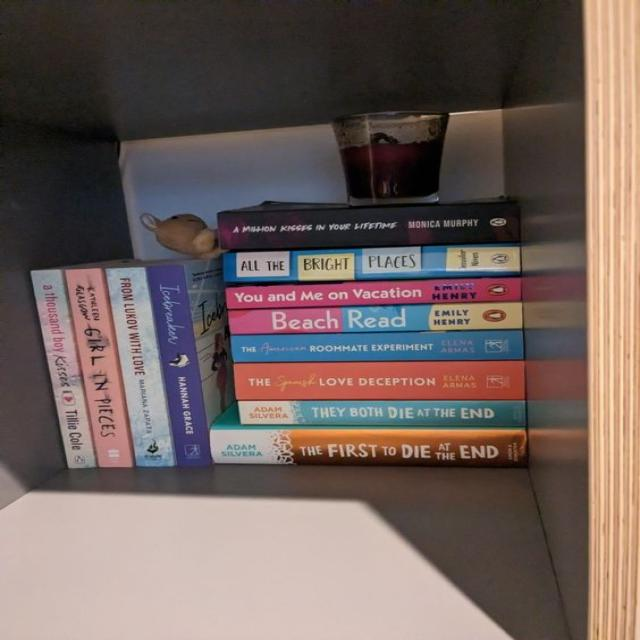book: (217, 203, 521, 249), (64, 268, 134, 467), (107, 267, 176, 466), (29, 269, 97, 469), (146, 265, 212, 465), (232, 360, 527, 400), (207, 430, 528, 466), (223, 244, 521, 282), (226, 304, 522, 336), (232, 330, 524, 362), (224, 279, 521, 309), (239, 400, 527, 427)
